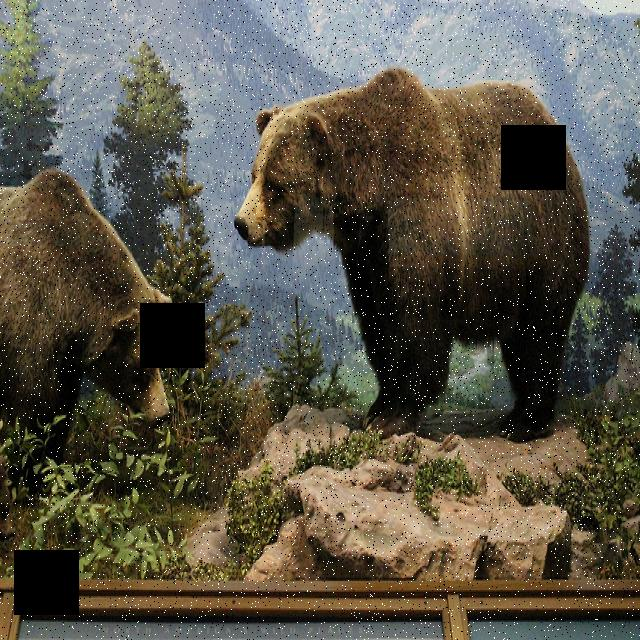Bear: (236, 72, 593, 454), (0, 169, 175, 490)
